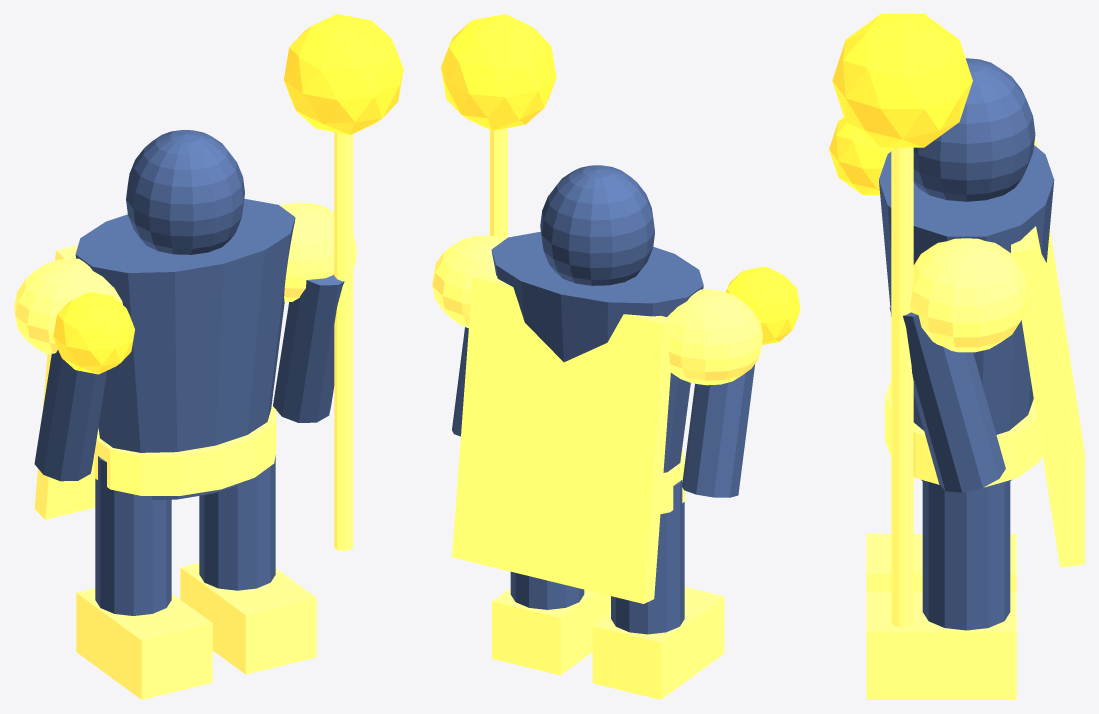
The model's file is hero_mage.glb.
3 views of the same model, side by side, from view 1: azimuth 30°, elevation 25°; view 2: azimuth 150°, elevation 25°; view 3: azimuth 270°, elevation 25° (orthographic). The views are drawn at different scales.
Visible parts, largest first — view 1: Cone, Sphere.002, Icosphere, Cube, Cube.001, Cylinder, Cylinder.005, Cylinder.002, Cylinder.001, Cylinder.004, Cylinder.003, Icosphere.001 (+3 smaller); view 2: Cube.002, Cone, Sphere.002, Icosphere, Cube, Sphere, Cube.001, Cylinder.003, Cylinder, Sphere.001, Icosphere.001, Cylinder.005 (+3 smaller); view 3: Icosphere, Cone, Cube.001, Cube.002, Cylinder.001, Sphere.002, Sphere.001, Cylinder.005, Cylinder.004, Cylinder.002, Icosphere.001, Cube.
Part boxes in pixels (box(x1,y1,x2,y2)): Cone: box(75, 198, 295, 499); Sphere.002: box(126, 130, 244, 254); Icosphere: box(284, 14, 403, 134); Cube: box(76, 588, 212, 699); Cube.001: box(180, 562, 316, 674); Cylinder: box(95, 456, 171, 615); Cylinder.005: box(334, 132, 353, 550); Cylinder.002: box(94, 406, 276, 495); Cylinder.001: box(199, 455, 275, 590); Cylinder.004: box(273, 275, 344, 422); Cylinder.003: box(34, 350, 107, 481); Icosphere.001: box(53, 292, 134, 374); Cube.002: box(452, 272, 674, 603); Cone: box(491, 231, 703, 472); Sphere.002: box(540, 165, 654, 285); Icosphere: box(441, 14, 556, 130); Cube: box(592, 587, 724, 699); Sphere: box(667, 289, 762, 385); Cube.001: box(492, 588, 610, 675); Cylinder.003: box(682, 364, 754, 497); Cylinder: box(611, 480, 684, 634); Sphere.001: box(432, 235, 505, 328); Icosphere.001: box(726, 266, 800, 344); Cylinder.005: box(489, 128, 507, 238); Icosphere: box(832, 14, 972, 147); Cone: box(879, 145, 1054, 480); Cube.001: box(866, 592, 1016, 699); Cube.002: box(1011, 138, 1084, 567); Cylinder.001: box(922, 480, 1010, 630); Sphere.002: box(913, 58, 1035, 201); Sphere.001: box(910, 238, 1028, 352); Cylinder.005: box(891, 147, 913, 626); Cylinder.004: box(889, 306, 1005, 492); Cylinder.002: box(885, 380, 1042, 487); Icosphere.001: box(829, 117, 891, 194); Cube: box(866, 534, 1016, 591).
Size of the model in its own units: 1.43 by 2.44 by 0.8002.
